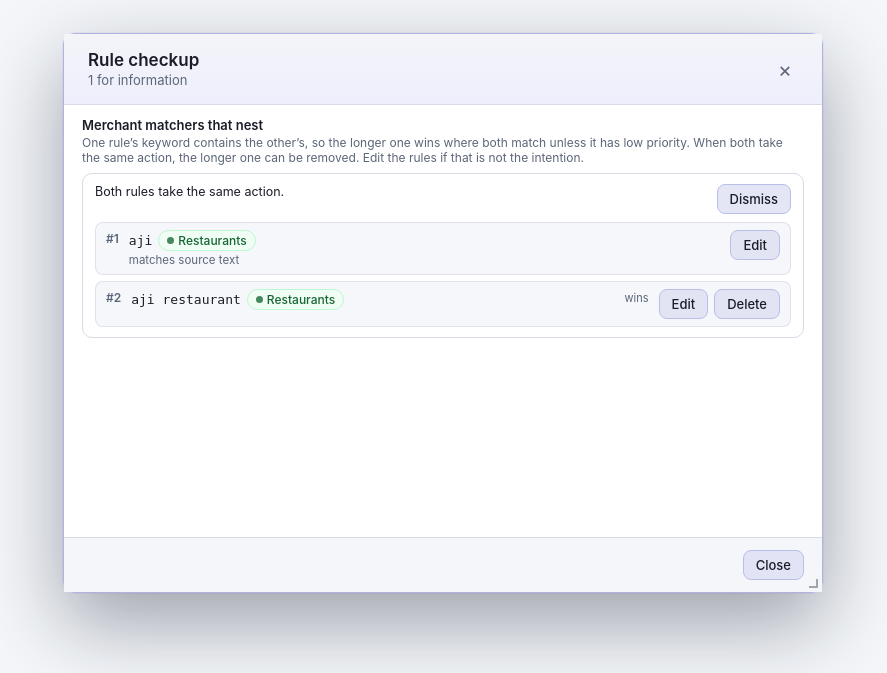
RuleFindingsDialog › abandons a delete on cancel
Click the button "Delete" at [747, 304], box x1=714 y1=289 x2=780 y2=319
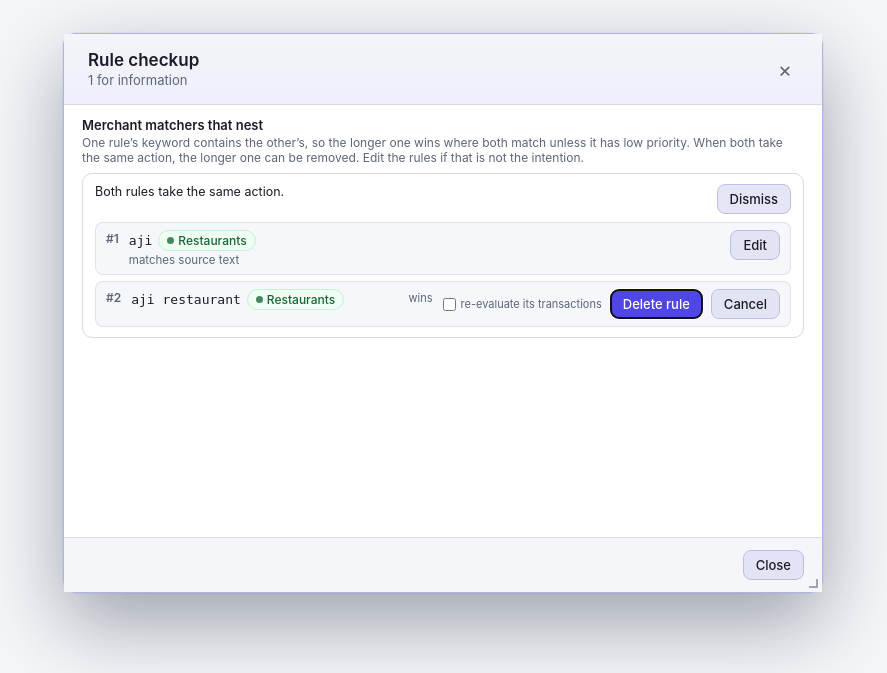
Click the button "Cancel" at [745, 304], box x1=711 y1=289 x2=780 y2=319
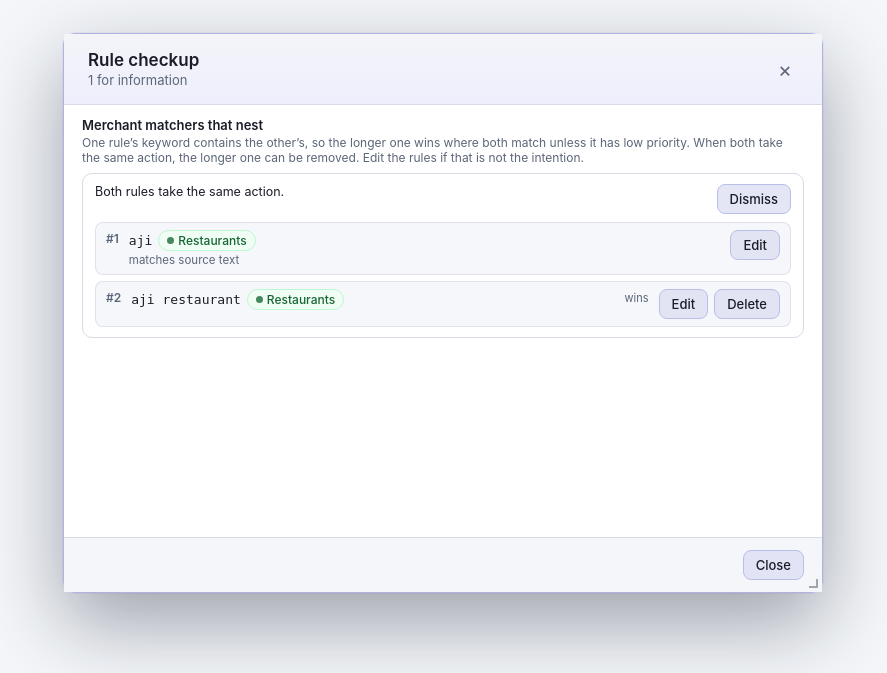
Expected: the button "Delete rule" is gone
